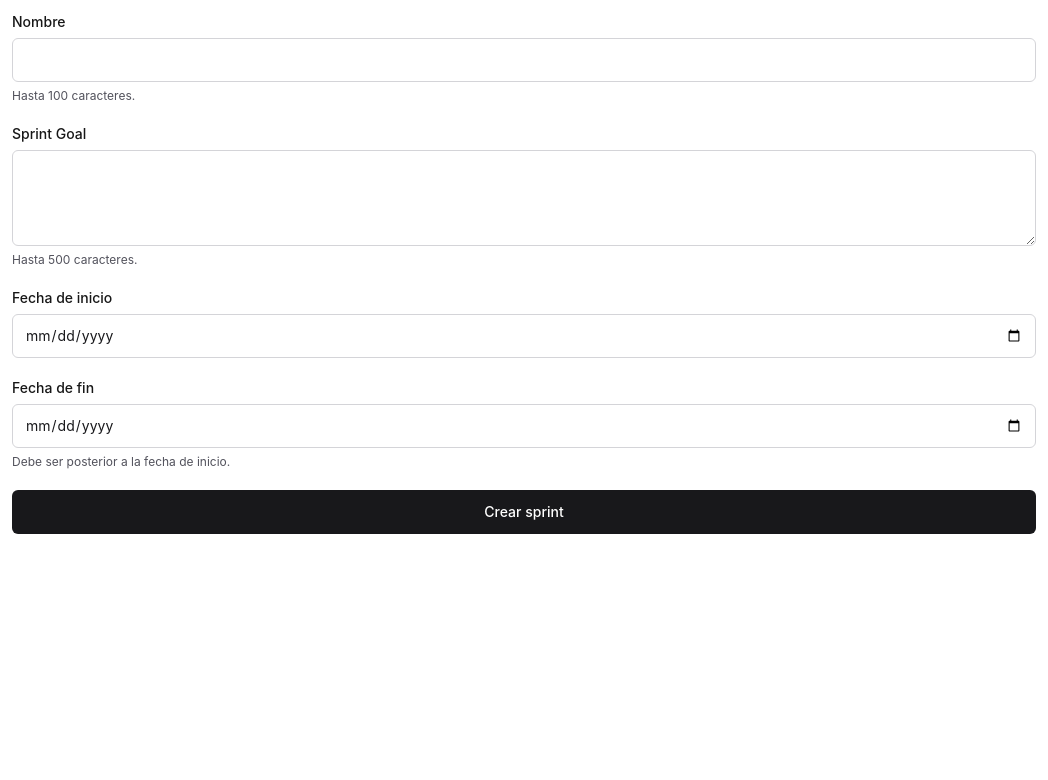
Test: 004/US1 - Planificar un sprint › Creación en un proyecto En curso
The width and height of the screenshot is (1048, 780).
In the field labelled "Nombre": (524, 60) [12, 38, 1036, 82], type "Sprint 1"
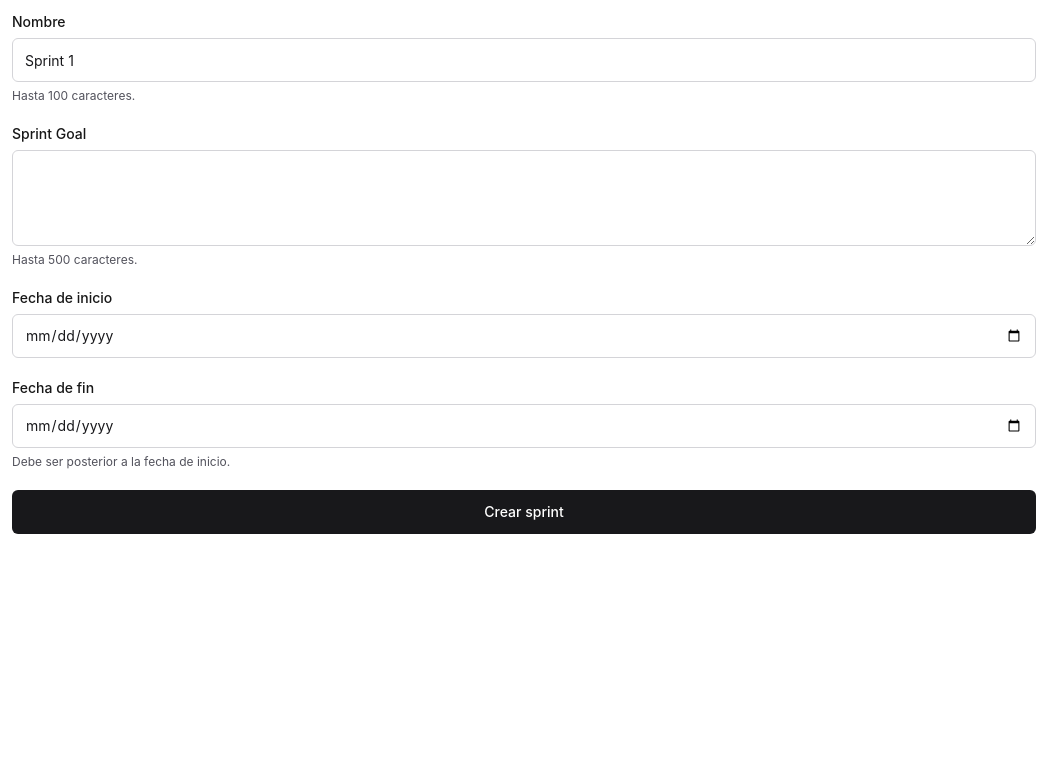
In the text box labelled "Sprint Goal": (524, 198) [12, 150, 1036, 246], type "Cerrar el alta de clientes"
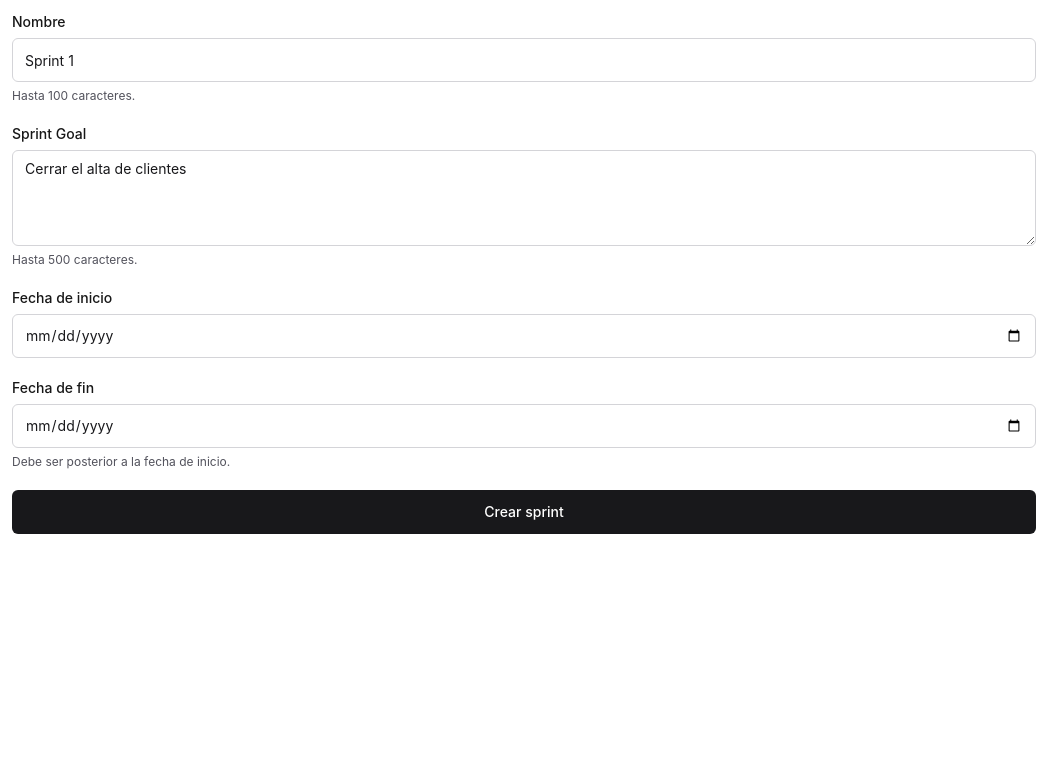
In the date field labelled "Fecha de inicio": (524, 336) [12, 314, 1036, 358], type "2026-10-01"
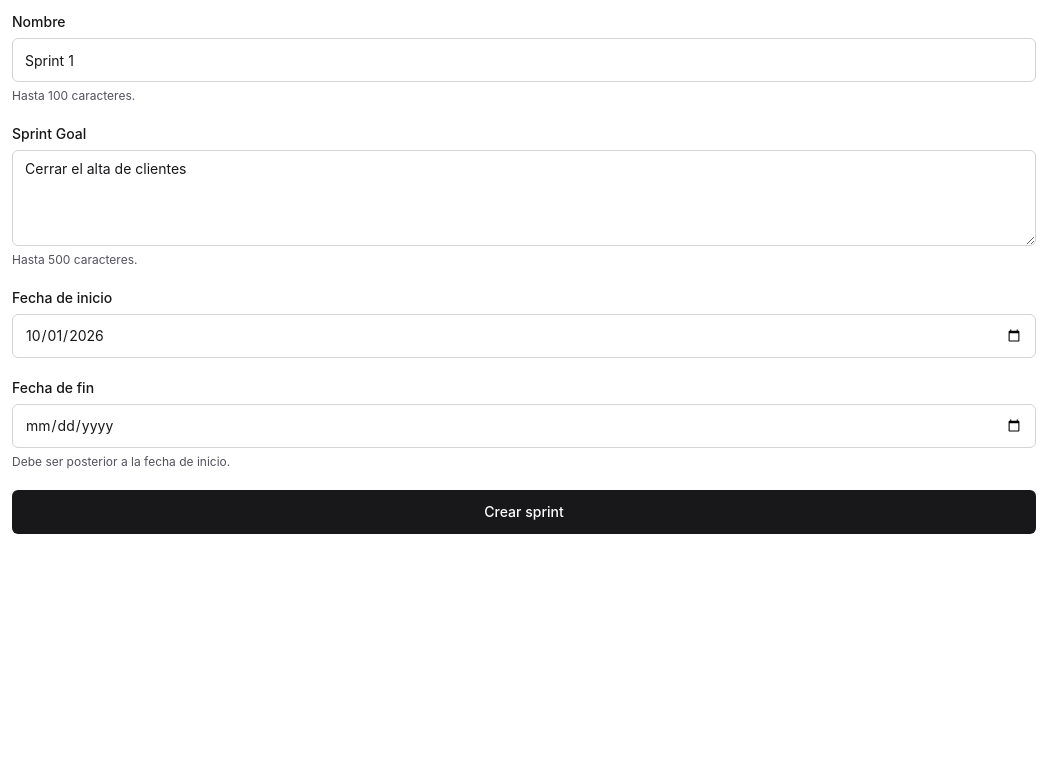
In the date field labelled "Fecha de fin": (524, 426) [12, 404, 1036, 448], type "2026-10-14"
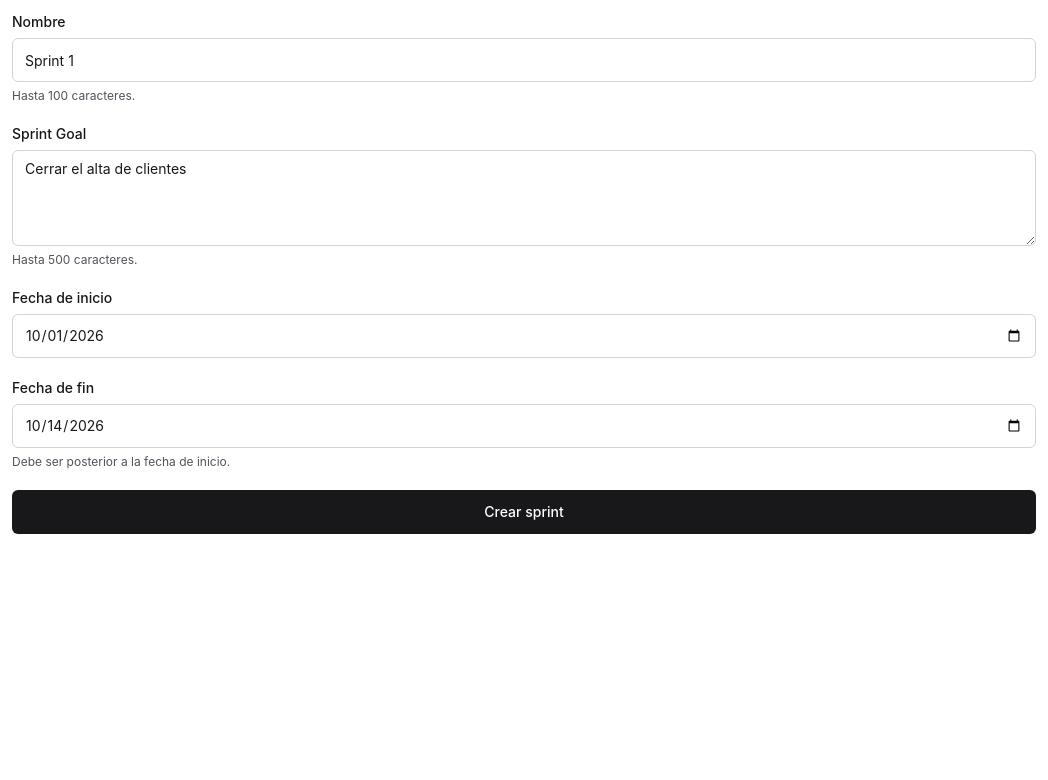
Click the button "Crear sprint": (524, 512) [12, 490, 1036, 534]
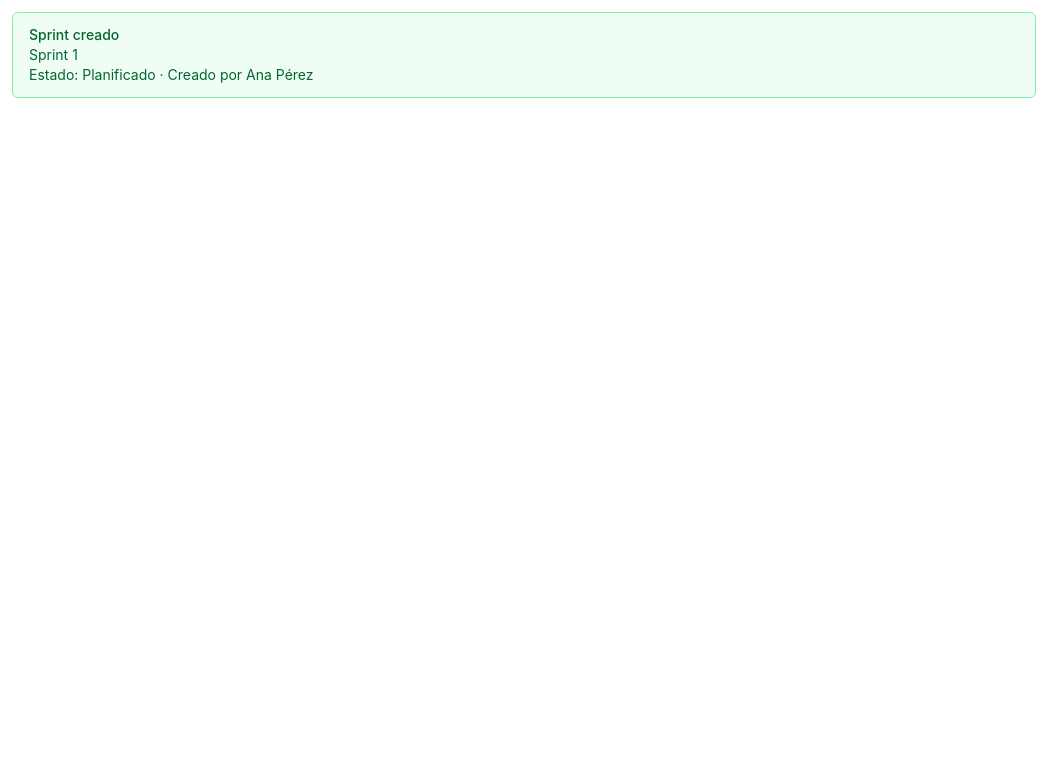
Result: the text "Sprint creado" is shown at [29, 26, 119, 43]
Result: the text "Sprint 1" is shown at [29, 46, 78, 63]
Result: the text "Planificado" is shown at [82, 66, 156, 83]
